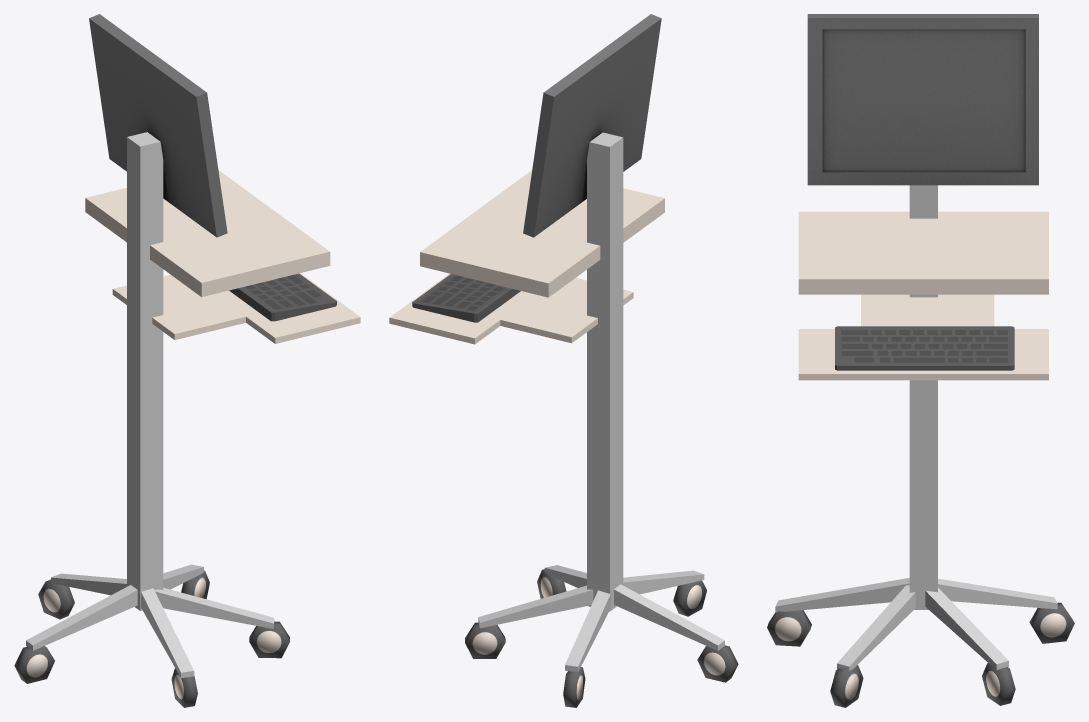
Rendered from mesh_computer.obj.
3 views of the same model, side by side, from view 1: azimuth 30°, elevation 25°; view 2: azimuth 150°, elevation 25°; view 3: azimuth 270°, elevation 25° (orthographic). The views are drawn at different scales.
Parts seen in each view (by area): view 1: Cube.003, Cube.001, Cylinder.002, Cube.004; view 2: Cube.003, Cube.001, Cylinder.002, Cube.004; view 3: Cube.003, Cube.001, Cube.004, Cylinder.002.
Boxes of the visible parts, left/top/right/bottom form: Cube.003: left=26, top=132, right=360, bottom=678; Cube.001: left=89, top=14, right=227, bottom=237; Cylinder.002: left=14, top=570, right=289, bottom=707; Cube.004: left=229, top=273, right=336, bottom=321; Cube.003: left=389, top=132, right=724, bottom=672; Cube.001: left=523, top=14, right=661, bottom=237; Cylinder.002: left=465, top=569, right=738, bottom=707; Cube.004: left=412, top=274, right=520, bottom=322; Cube.003: left=775, top=185, right=1057, bottom=670; Cube.001: left=807, top=14, right=1038, bottom=185; Cube.004: left=835, top=326, right=1014, bottom=370; Cylinder.002: left=767, top=602, right=1074, bottom=707.
Size of the model in its own units: 2.94 by 5.83 by 2.54.
Materials: 5 (5 with a texture image).
